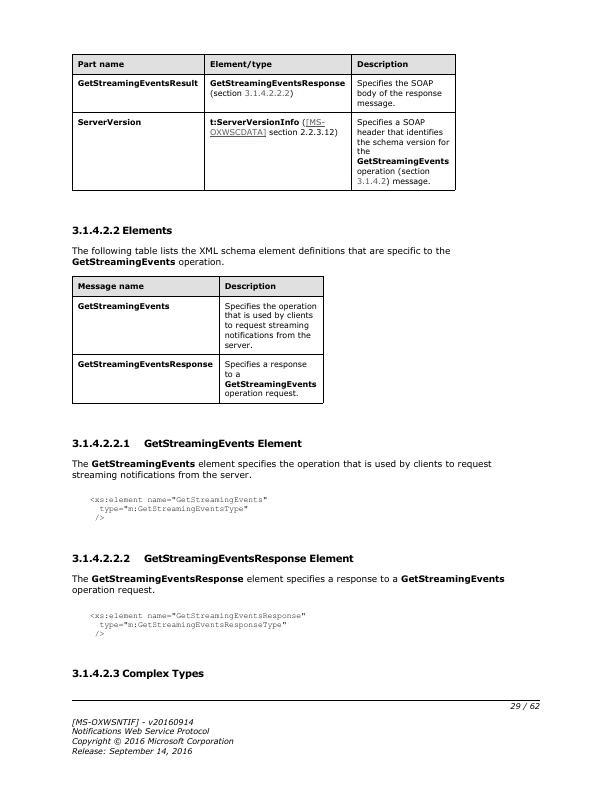table: (71, 52, 457, 195), (68, 273, 329, 406)
text: (68, 572, 507, 600), (68, 456, 492, 481), (70, 245, 452, 266), (68, 715, 238, 759), (87, 493, 271, 526), (86, 609, 309, 636), (68, 551, 355, 567), (67, 436, 304, 451), (71, 666, 208, 682), (68, 221, 178, 237)
